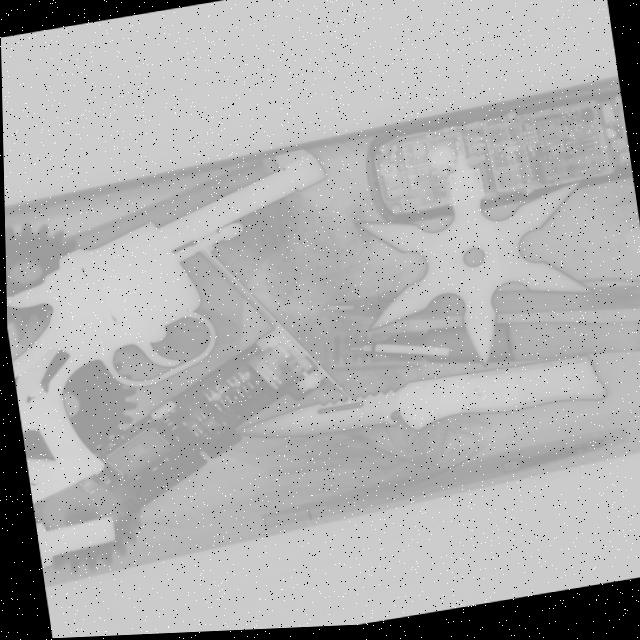knife: (238, 354, 613, 471)
pistol: (3, 147, 362, 503)
